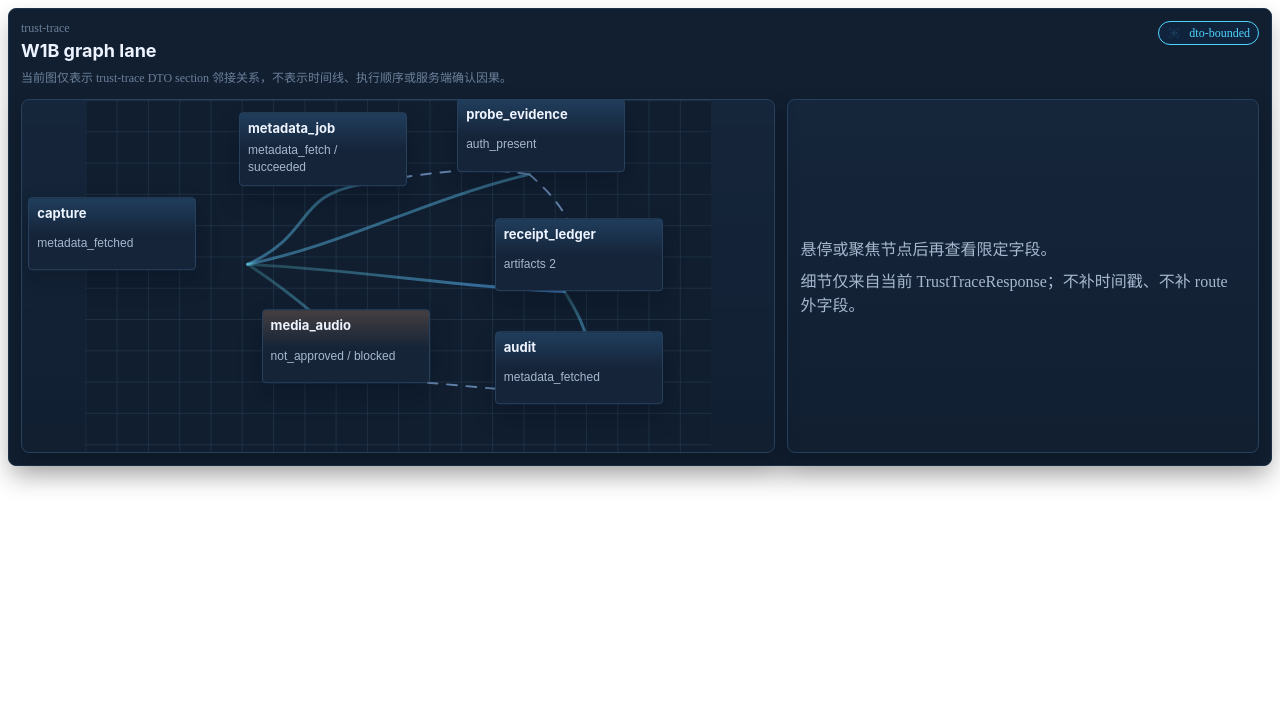
GraphLane › reveals bounded node detail on focus without inventing extra fields
Expected: the text "悬停或聚焦节点后再查看限定字段。" is shown, [800,241,1056,258]
Expected: the text "source_report_path" is not shown
Focus the button with aria-label "section node probe_evidence" at (541, 135), box [457,98,625,172]
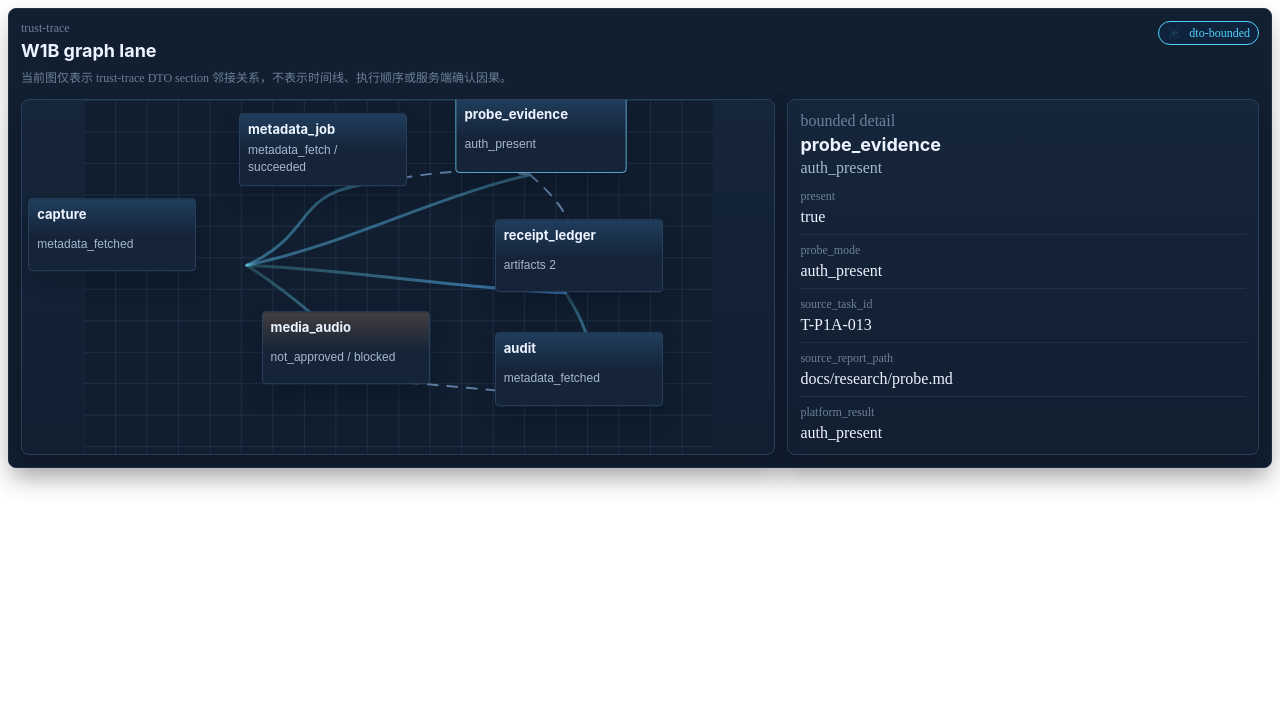
Expected: the text "source_task_id" is shown, [800,297,872,311]
Expected: the text "T-P1A-013" is shown, [800,316,872,333]
Expected: the text "source_report_path" is shown, [800,351,893,365]
